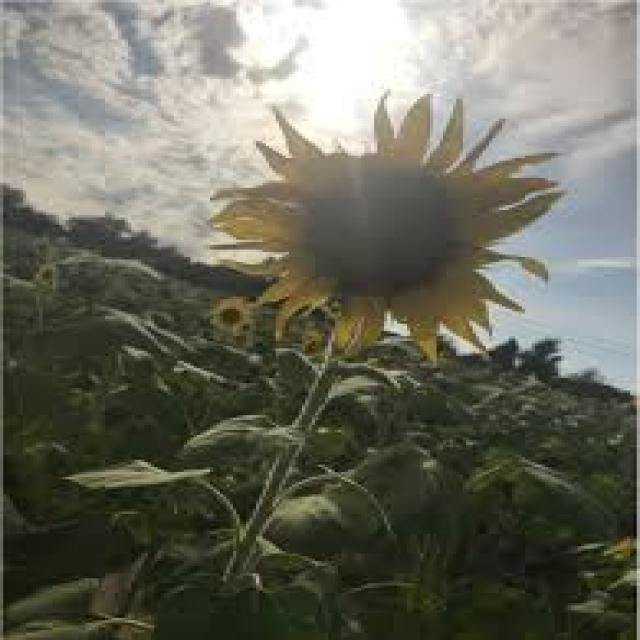sunflower: (199, 81, 582, 372), (205, 294, 268, 341)
